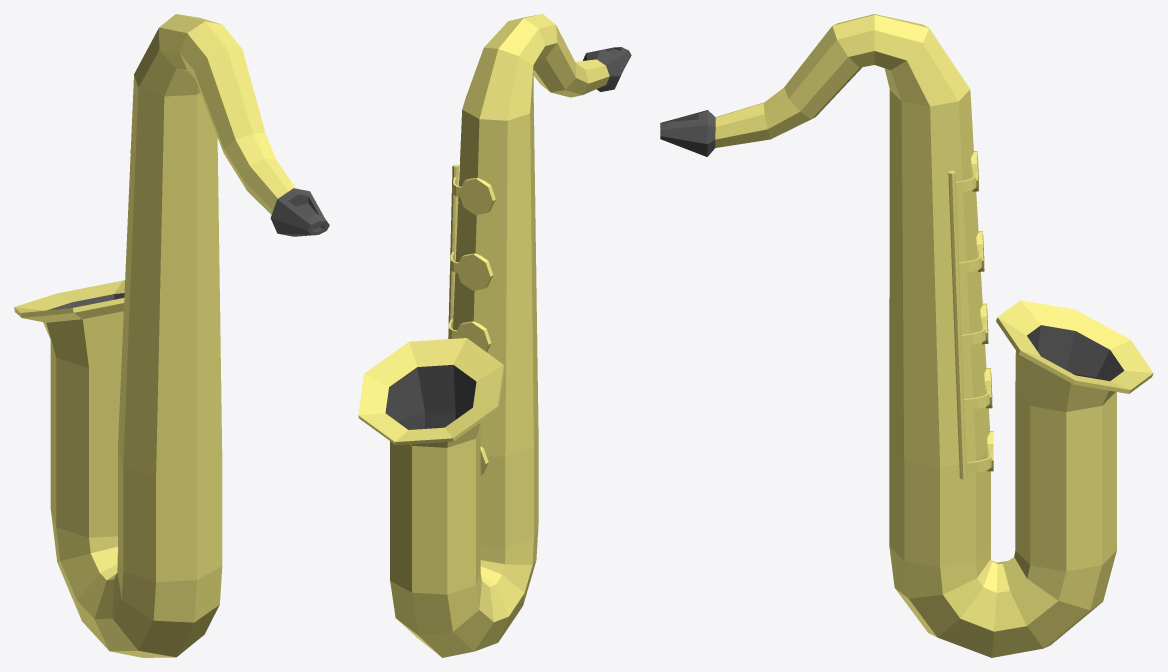
File: Saxophone_01.gltf
3 views of the same model, side by side, from view 1: azimuth 30°, elevation 25°; view 2: azimuth 150°, elevation 25°; view 3: azimuth 270°, elevation 25° (orthographic). The views are drawn at different scales.
Visible parts, largest first — view 1: node-0; view 2: node-0; view 3: node-0.
Part boxes in pixels (bbox=[...]): node-0: bbox=[14, 14, 329, 657]; node-0: bbox=[358, 14, 631, 657]; node-0: bbox=[660, 14, 1153, 657].
Bounding box in the file's own units: 3.8 × 16 × 11.16.
